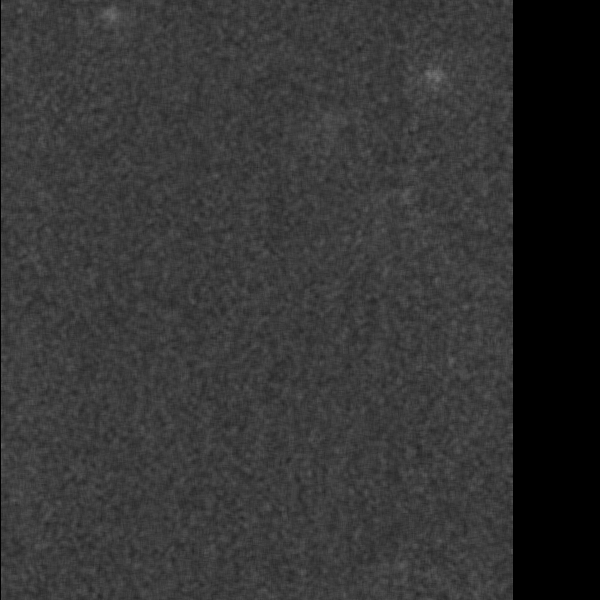spark: (93, 2, 129, 35), (415, 58, 442, 101)
